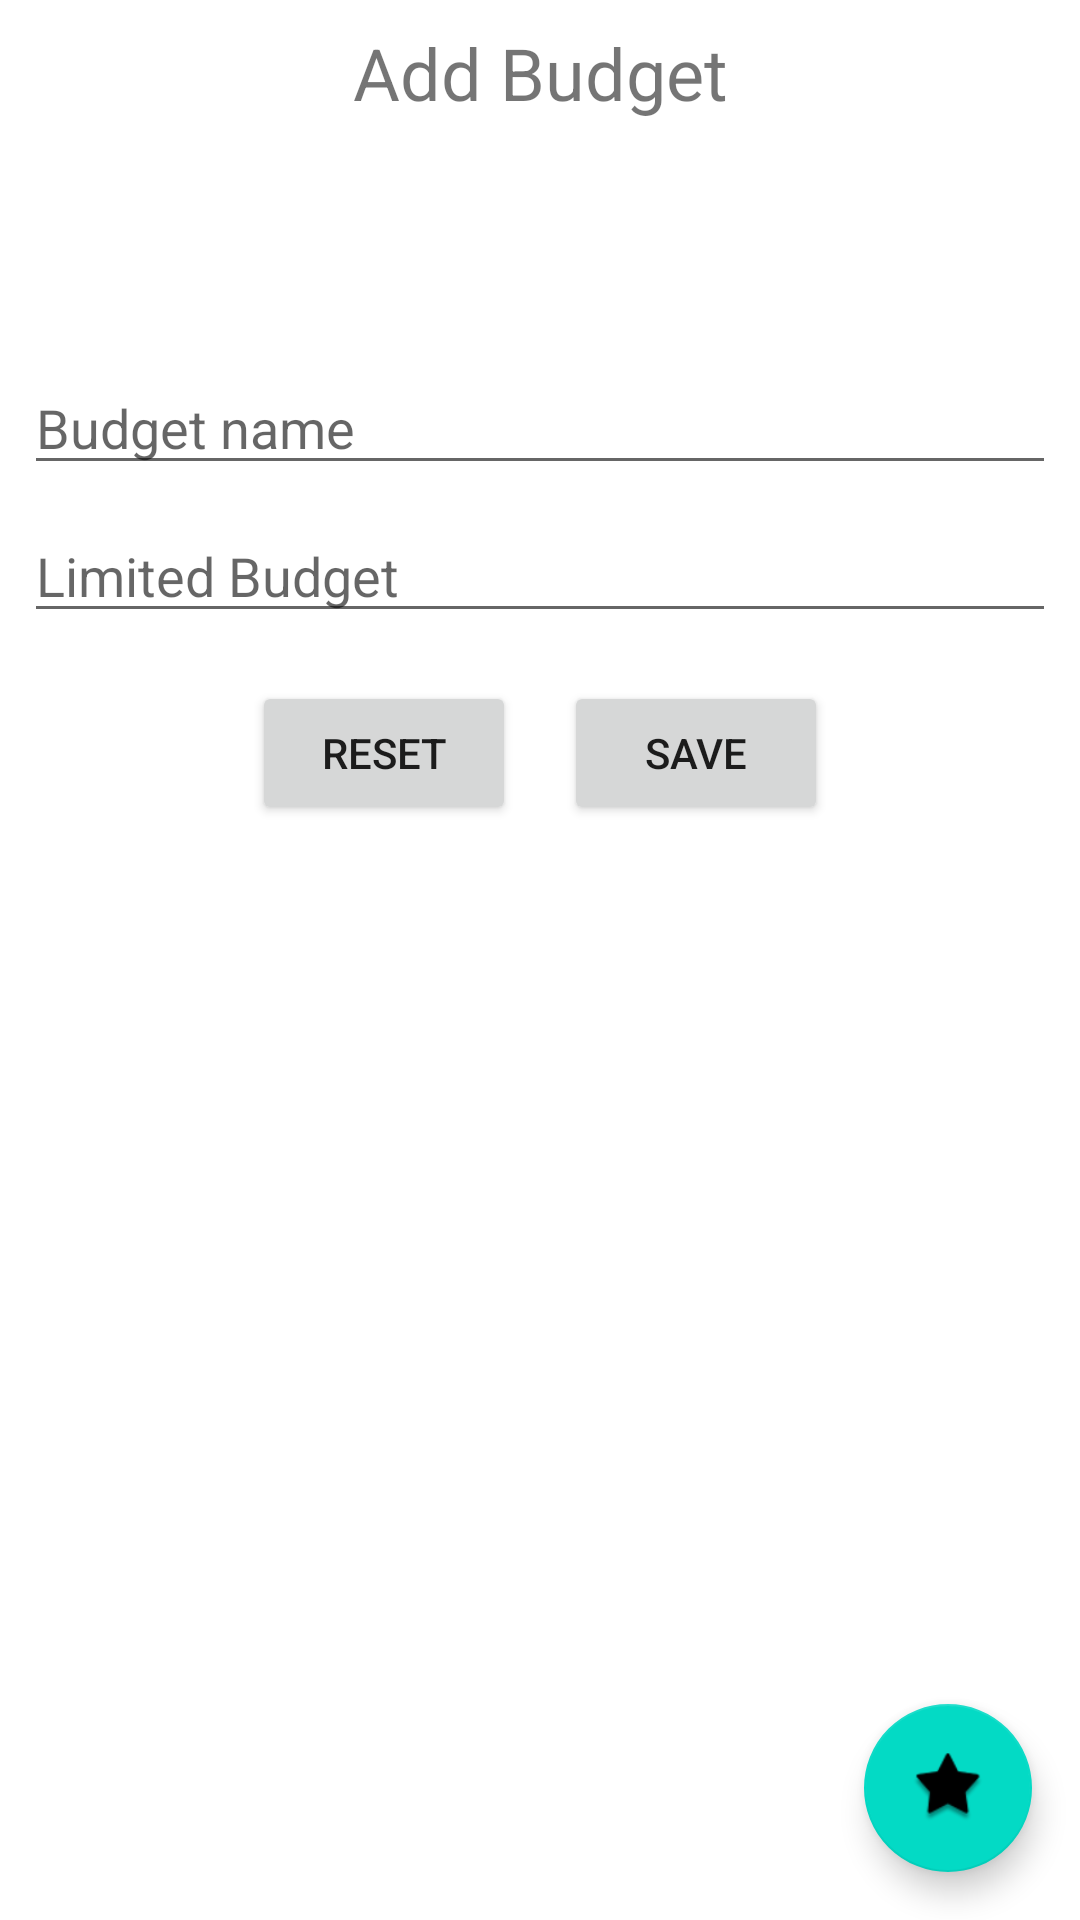

Point at icon controls on the screen. Image size 1080px x 1920px, points as point (x, y).
star on: point (948, 1788)
